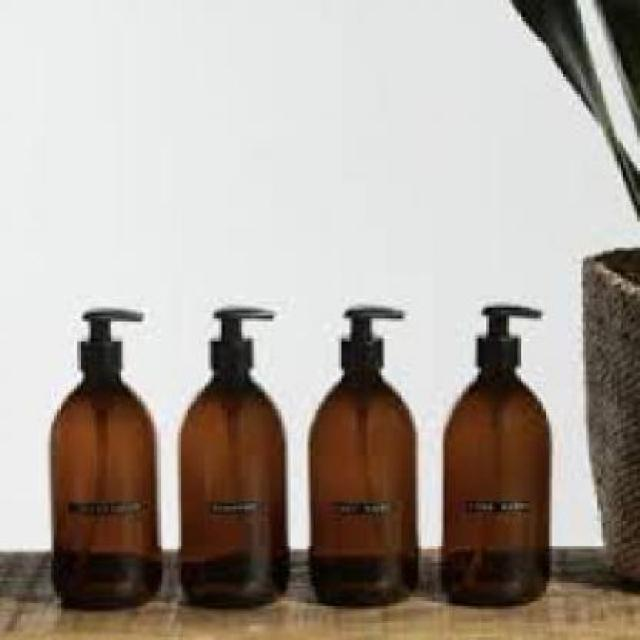kaca: (46, 372, 160, 603), (177, 366, 285, 603), (442, 362, 546, 606), (308, 365, 415, 600)
